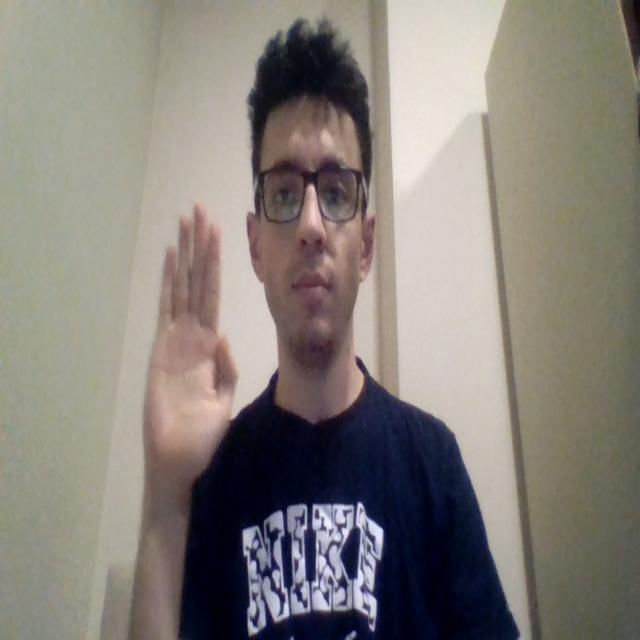hello: (142, 201, 240, 512)
